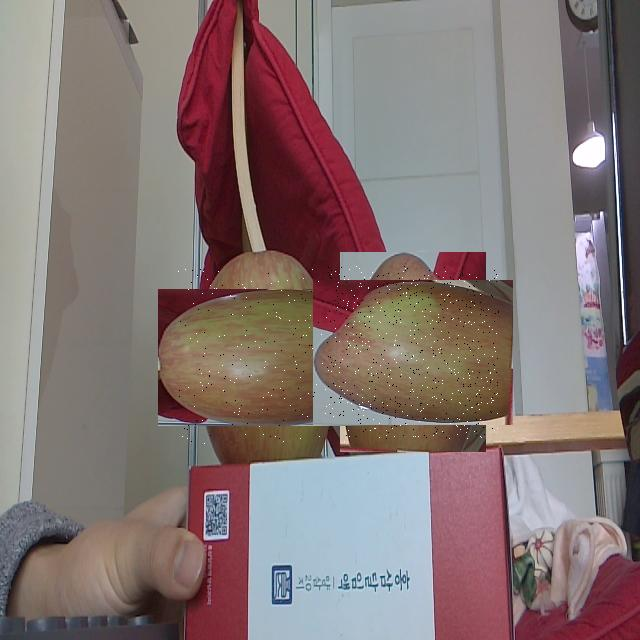apple: (177, 269, 353, 445), (327, 266, 499, 439)
